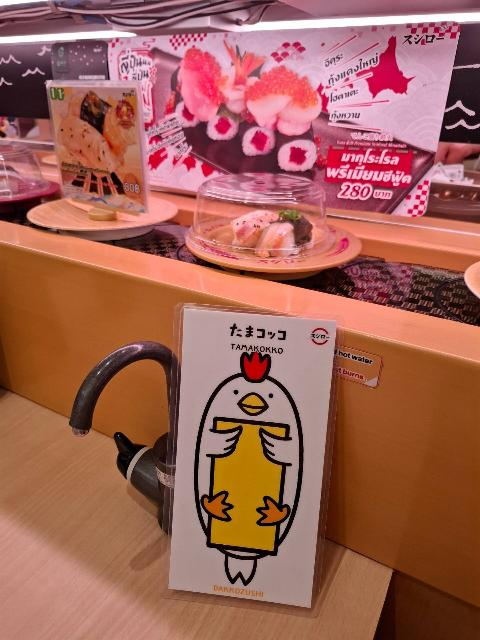jangold: (180, 187, 401, 285)
janred: (7, 158, 52, 201)
